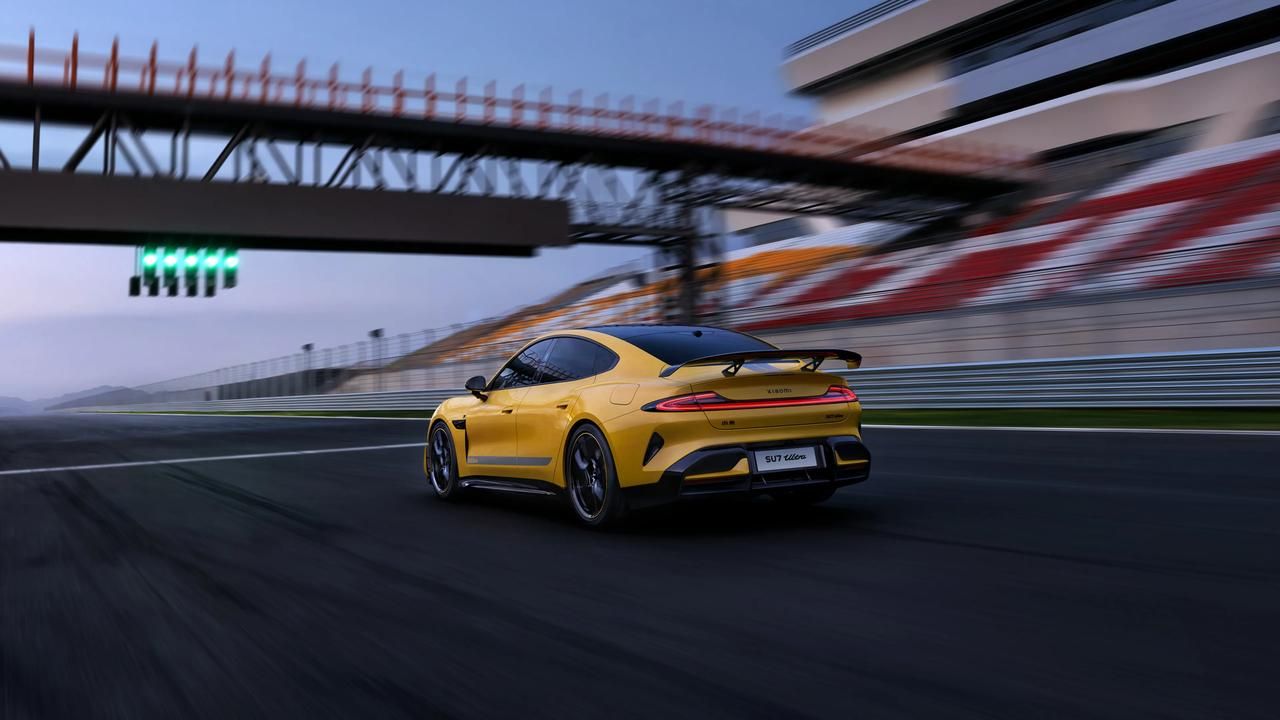su7: (426, 321, 883, 522)
